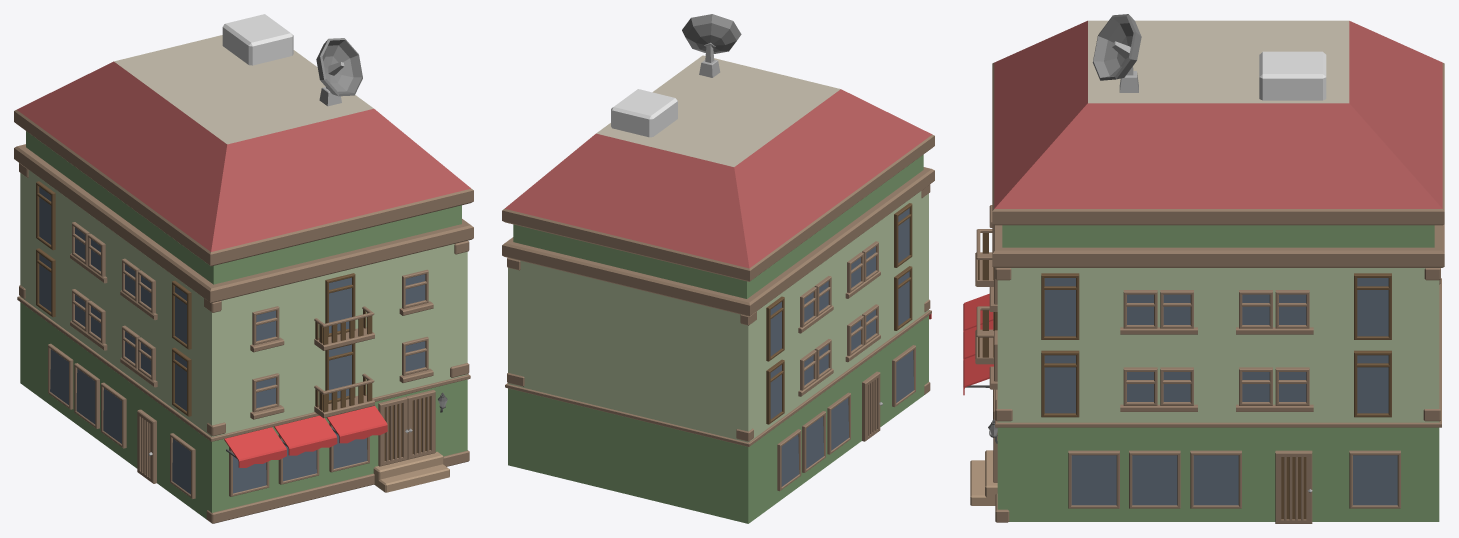
Rendered from casa_3_alturas_c.fbx.
3 views of the same model, side by side, from view 1: azimuth 30°, elevation 25°; view 2: azimuth 150°, elevation 25°; view 3: azimuth 270°, elevation 25° (orthographic). The views are drawn at different scales.
Visible parts, largest first — view 1: CASA_3_alturas, ladrillos1, tanque, antena, escaleras_1, puerta_11, puerta_10, toldo_16, toldo_17, ventana_88, toldo_18, ventana_86 (+26 smaller); view 2: CASA_3_alturas, tanque, antena, ladrillos1, ventana_97, ventana_95, ventana_99, ventana_98, puerta_12, ventana_93, ventana_94, ventana_91 (+9 smaller); view 3: CASA_3_alturas, tanque, ventana_123, ventana_122, ventana_121, ventana_120, ladrillos1, antena, puerta_13, ventana_114, ventana_115, ventana_117 (+13 smaller).
Part boxes in pixels (<box>): CASA_3_alturas: <box>14,35,473,519</box>; ladrillos1: <box>19,163,469,523</box>; tanque: <box>222,14,293,65</box>; antena: <box>316,38,362,106</box>; escaleras_1: <box>373,451,449,492</box>; puerta_11: <box>406,389,435,459</box>; puerta_10: <box>378,396,408,466</box>; toldo_16: <box>224,427,286,467</box>; toldo_17: <box>274,415,337,455</box>; ventana_88: <box>325,273,355,336</box>; toldo_18: <box>327,406,387,443</box>; ventana_86: <box>325,343,355,403</box>; CASA_3_alturas: <box>502,55,934,523</box>; tanque: <box>611,89,677,137</box>; antena: <box>682,14,741,77</box>; ladrillos1: <box>507,184,930,441</box>; ventana_97: <box>777,429,801,491</box>; ventana_95: <box>892,345,915,407</box>; ventana_99: <box>827,392,850,454</box>; ventana_98: <box>802,411,825,472</box>; puerta_12: <box>862,371,882,441</box>; ventana_93: <box>766,296,784,361</box>; ventana_94: <box>766,359,784,424</box>; ventana_91: <box>894,203,912,267</box>; CASA_3_alturas: <box>992,20,1444,521</box>; tanque: <box>1259,51,1326,100</box>; ventana_123: <box>1068,450,1119,508</box>; ventana_122: <box>1129,450,1180,508</box>; ventana_121: <box>1190,450,1241,508</box>; ventana_120: <box>1349,450,1400,508</box>; ladrillos1: <box>975,205,1440,522</box>; antena: <box>1092,14,1141,92</box>; puerta_13: <box>1275,450,1312,523</box>; ventana_114: <box>1041,350,1079,417</box>; ventana_115: <box>1041,273,1079,339</box>; ventana_117: <box>1354,350,1391,417</box>.
Bounding box in the file's own units: 1056 × 1501 × 1417.
